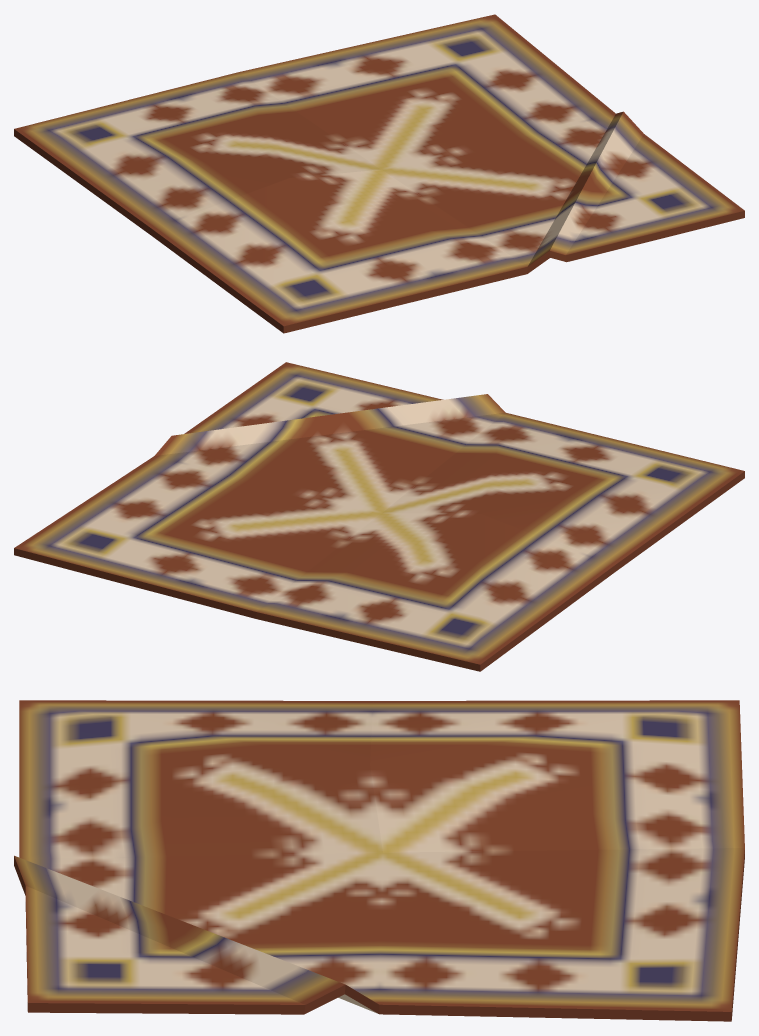
The model's file is SM_Prop_Rug_14.glb.
The picture shows the model from 3 angles, top to bottom: view 1: azimuth 30°, elevation 25°; view 2: azimuth 150°, elevation 25°; view 3: azimuth 270°, elevation 25°; orthographic projection. The views are drawn at different scales.
Visible parts, largest first — view 1: SM_Prop_Rug_14; view 2: SM_Prop_Rug_14; view 3: SM_Prop_Rug_14.
Part boxes in pixels (left/top/right/bottom): SM_Prop_Rug_14: left=14, top=14, right=744, bottom=333; SM_Prop_Rug_14: left=14, top=362, right=744, bottom=671; SM_Prop_Rug_14: left=14, top=700, right=744, bottom=1021.
Size of the model in its own units: 2.32 by 0.1199 by 2.29.
1 material, 1 textured.
